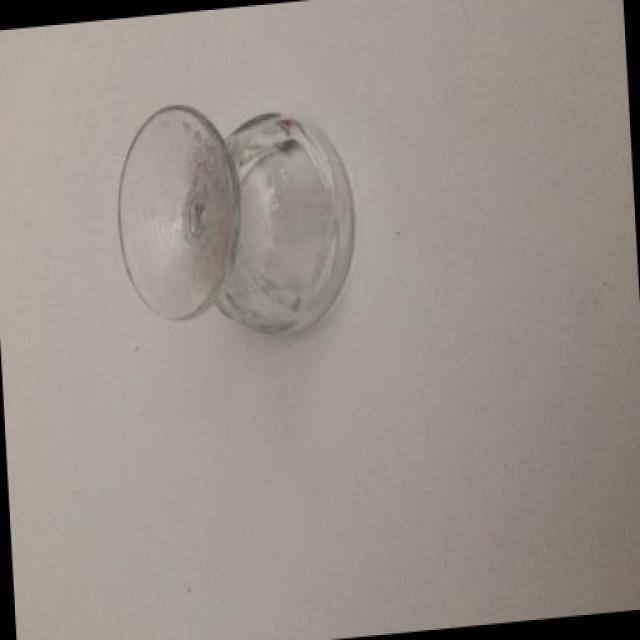vidrio: (109, 67, 422, 430)
